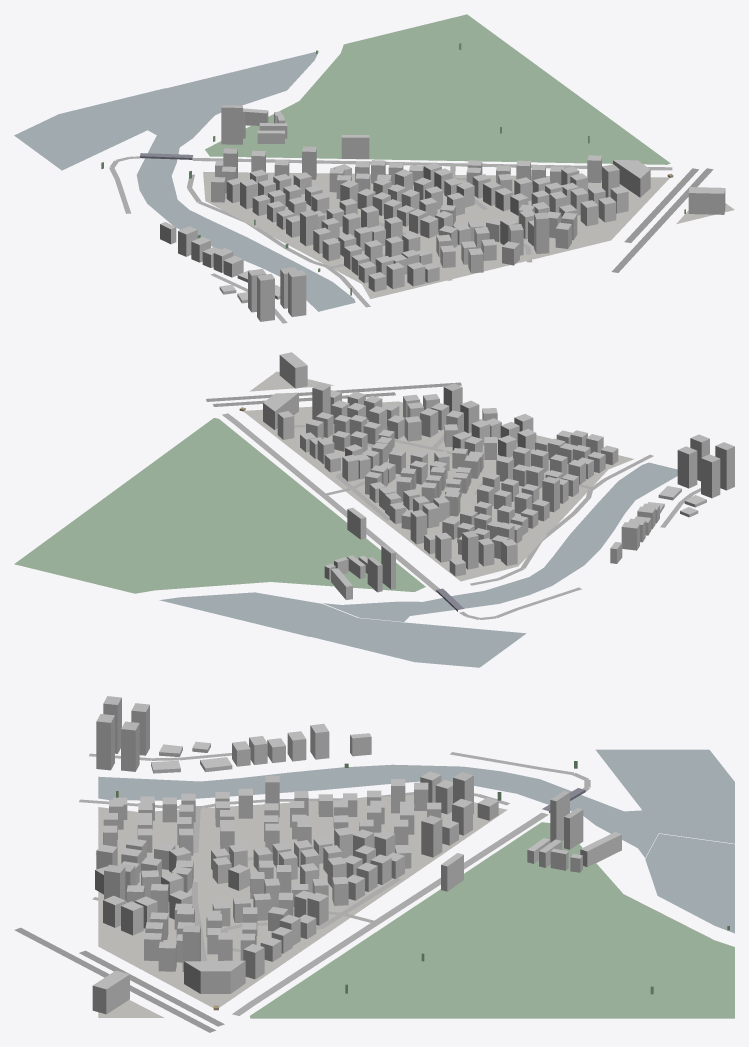
3 renders of one model, top to bottom at view 1: azimuth 30°, elevation 25°; view 2: azimuth 150°, elevation 25°; view 3: azimuth 270°, elevation 25°, orthographic. The views are drawn at different scales.
Size of the model in its own units: 535 by 43.56 by 566.
